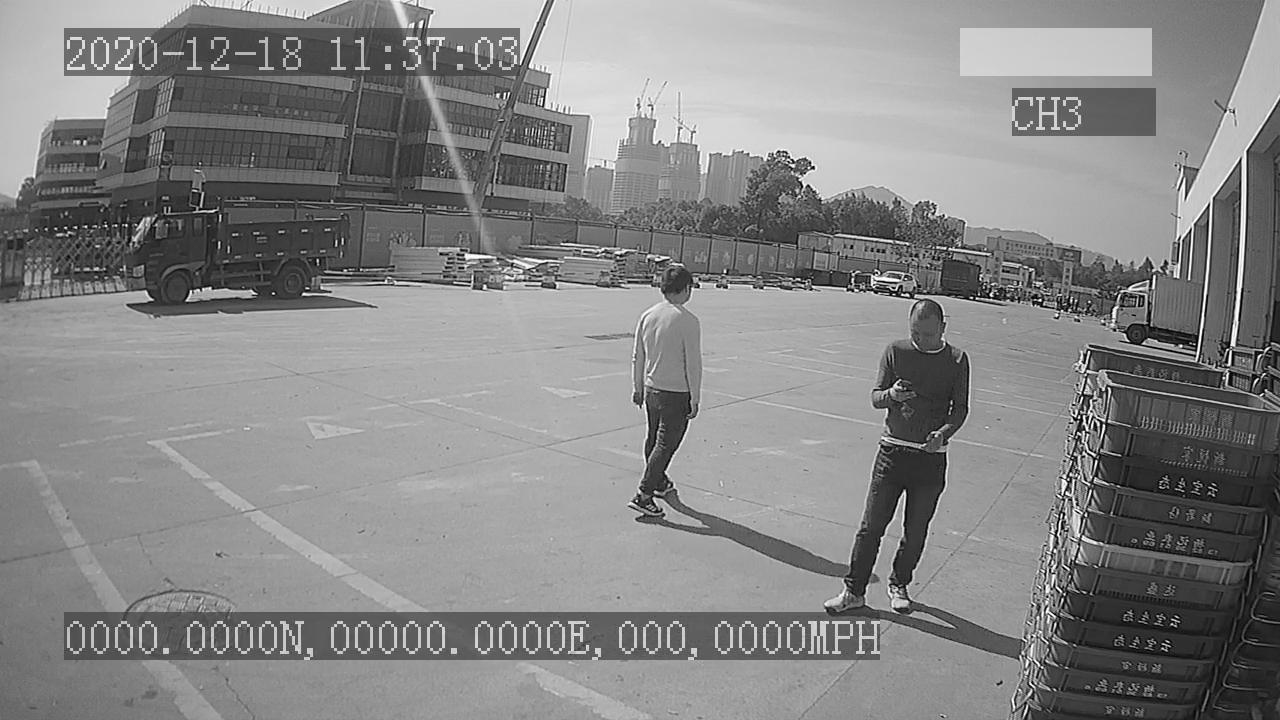person: (824, 294, 971, 616), (622, 264, 708, 512)
